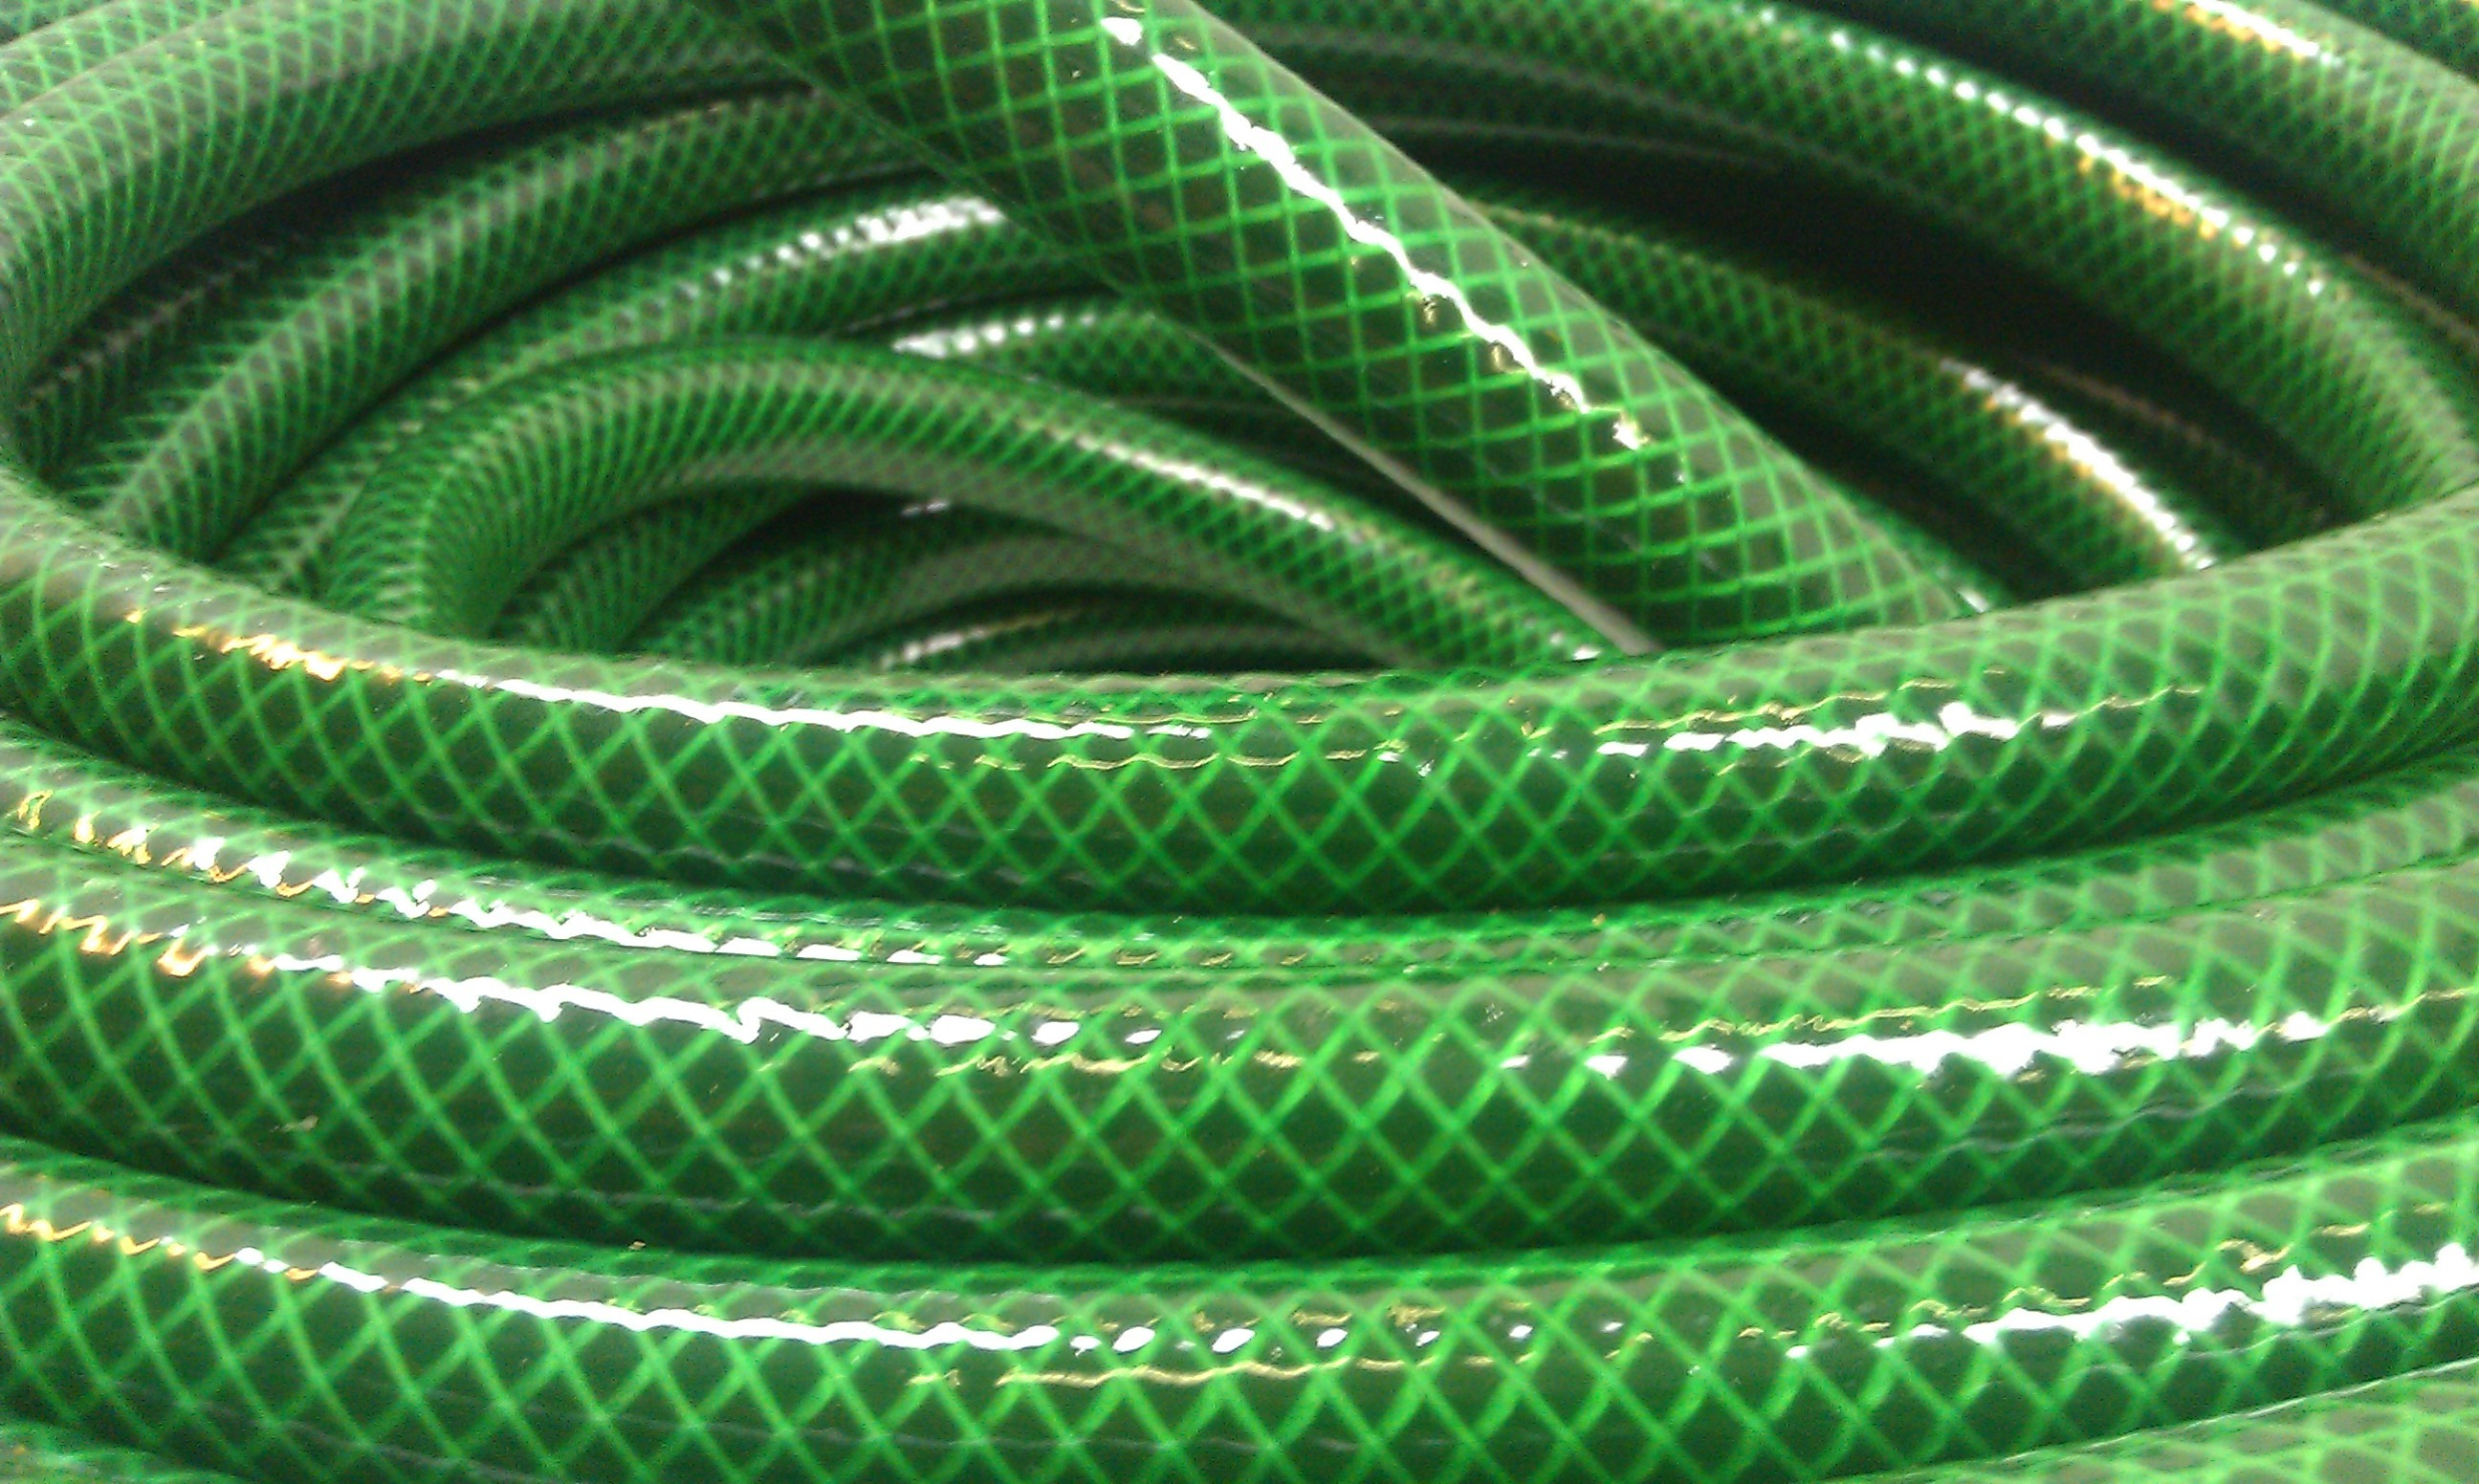Nonrec_Tangler: (2, 19, 2440, 1449)
